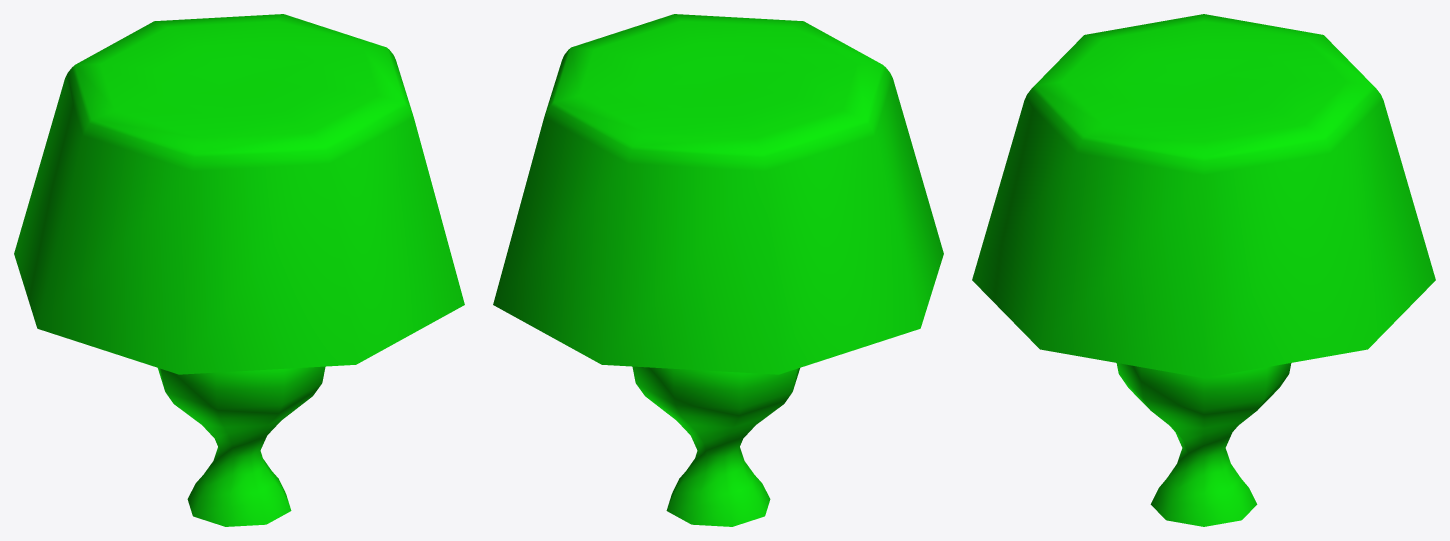
File: lamp standing 2.fbx
3 views of the same model, side by side, from view 1: azimuth 30°, elevation 25°; view 2: azimuth 150°, elevation 25°; view 3: azimuth 270°, elevation 25° (orthographic).
Parts seen in each view (by area): view 1: Cylinder; view 2: Cylinder; view 3: Cylinder.
Boxes of the visible parts, box(x1,y1,x2,y2) form: Cylinder: box(14, 14, 464, 526); Cylinder: box(493, 14, 943, 526); Cylinder: box(972, 14, 1435, 526).
Size of the model in its own units: 0.4469 by 0.45 by 0.4469.
